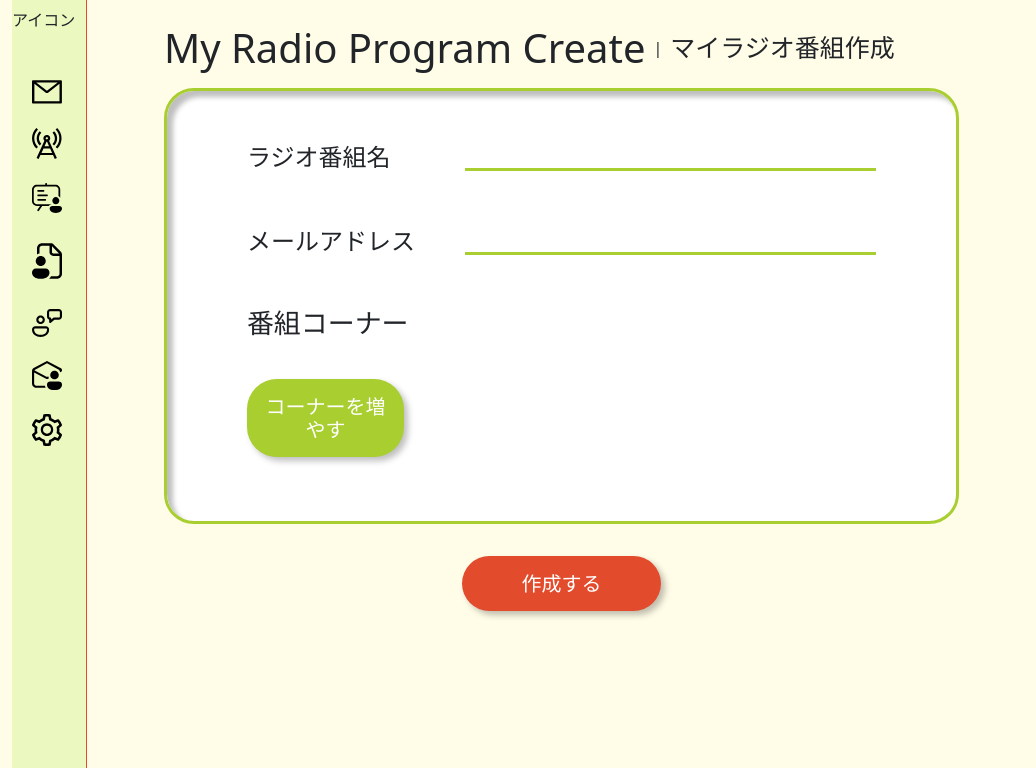
Test case: マイラジオ番組作成 › メールアドレスを入れないとバリデーションメッセージが表示される
The image size is (1036, 768).
In the field with test id "my-radio-program-input-name": (670, 157) [465,143,876,171], type "マイラジオ番組1"
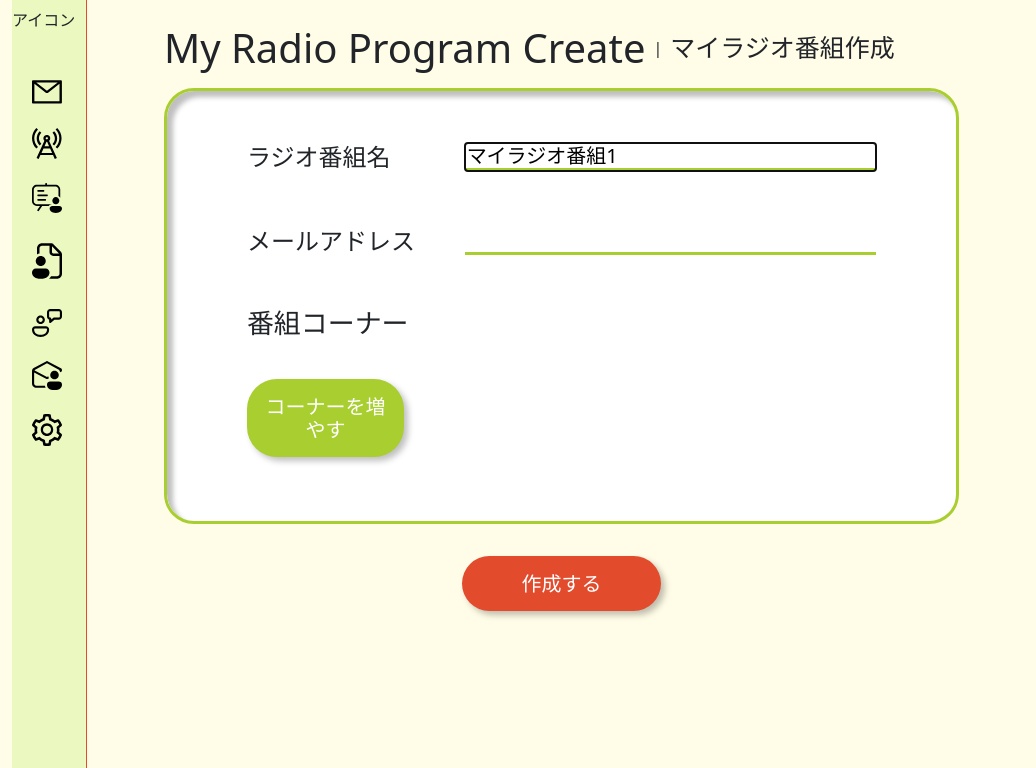
Click the button with test id "my-radio-program-button-create": (562, 584) [462,556,661,611]
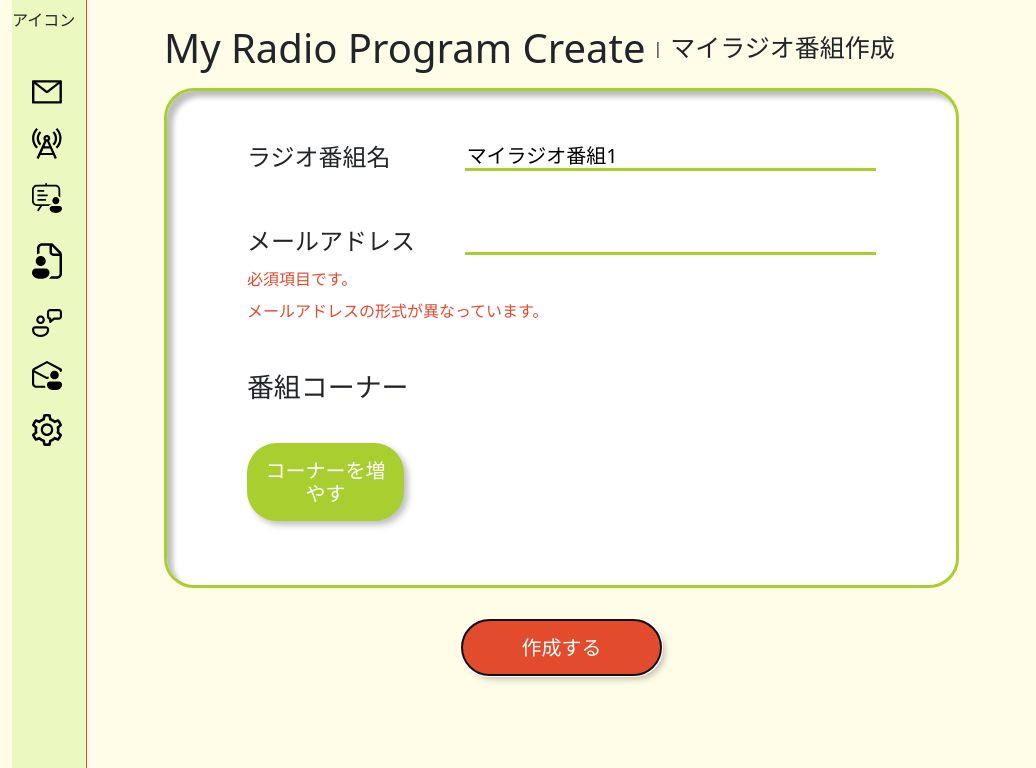
Check: the text "必須項目です。" is shown, box [247,268,357,290]
